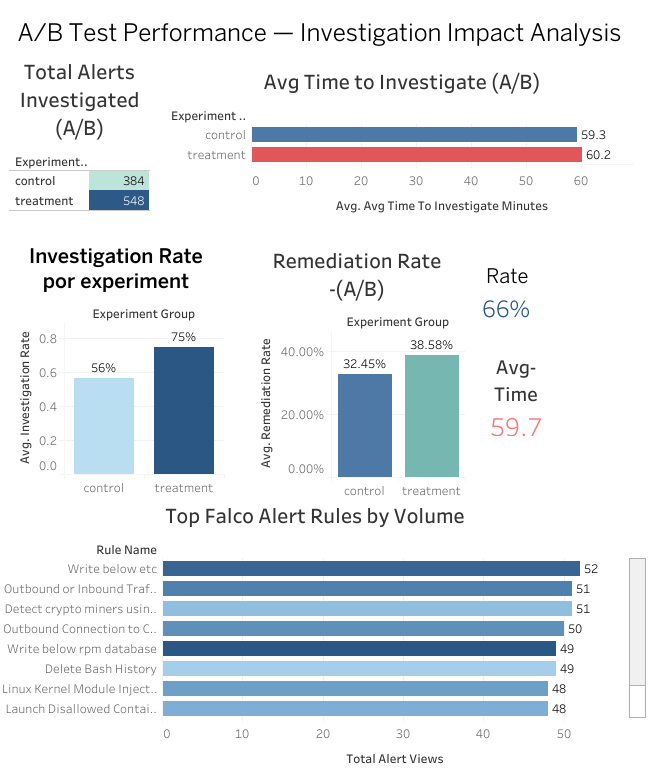

Layout of this report page (visuals, bound fields, positions):
{"tool":"tableau","page":{"name":"Dashboard 1","canvas":[650,860],"ordinal":0},"visuals":[{"type":"worksheet","title":"Sheet 8","mark":"Square","rows":["experiment_group"],"box":[9,57,332,189]},{"type":"worksheet","title":"Sheet 2","mark":"Automatic","rows":["experiment_group"],"cols":["avg_time_to_investigate_minutes"],"box":[171,89,462,160]},{"type":"worksheet","title":"Sheet 1 (2)","mark":"Automatic","rows":["investigation_rate"],"cols":["experiment_group"],"box":[8,263,216,286]},{"type":"worksheet","title":"Sheet 6 (2)","mark":"Automatic","rows":["remediation_rate"],"cols":["experiment_group"],"box":[249,266,216,286]},{"type":"worksheet","title":"Sheet 1","mark":"Text","box":[475,283,167,105]},{"type":"worksheet","title":"Sheet 2 (2)","mark":"Automatic","box":[486,384,154,112]},{"type":"worksheet","title":"Sheet 6","mark":"Automatic","rows":["rule_name"],"cols":["total_alert_views"],"box":[2,548,644,309]}]}

Visuals, with their boxes on the page's 650x860 design canvas (x1, y1, x2, y2). These are canvas units, not pixel positions in the 649x776 screenshot, which may show the page scaled, cropped or inside an application window:
"Sheet 8" worksheet (Square marks): {"x1": 9, "y1": 57, "x2": 341, "y2": 246}
"Sheet 2" worksheet: {"x1": 171, "y1": 89, "x2": 633, "y2": 249}
"Sheet 1 (2)" worksheet: {"x1": 8, "y1": 263, "x2": 224, "y2": 549}
"Sheet 6 (2)" worksheet: {"x1": 249, "y1": 266, "x2": 465, "y2": 552}
"Sheet 1" worksheet (Text marks): {"x1": 475, "y1": 283, "x2": 642, "y2": 388}
"Sheet 2 (2)" worksheet: {"x1": 486, "y1": 384, "x2": 640, "y2": 496}
"Sheet 6" worksheet: {"x1": 2, "y1": 548, "x2": 646, "y2": 857}
